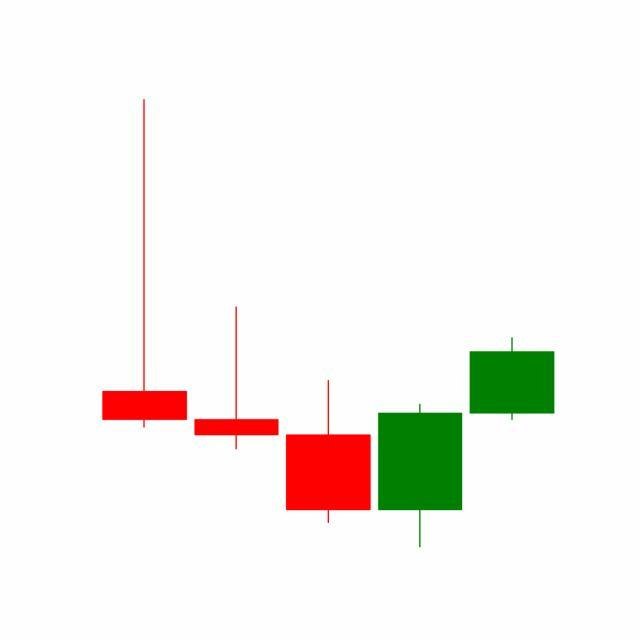Marubozu: (466, 336, 559, 422)
